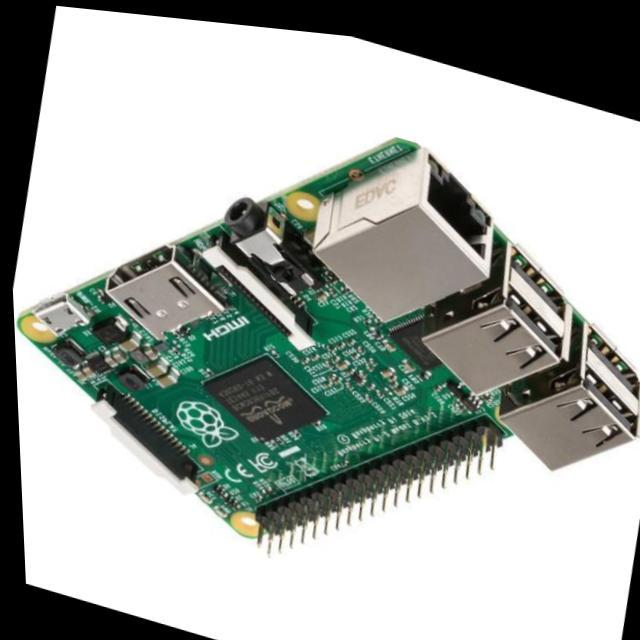Raspberry-Pi-2-B: (18, 140, 640, 553)
